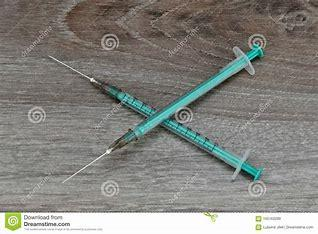Syringe: (47, 42, 262, 189)
